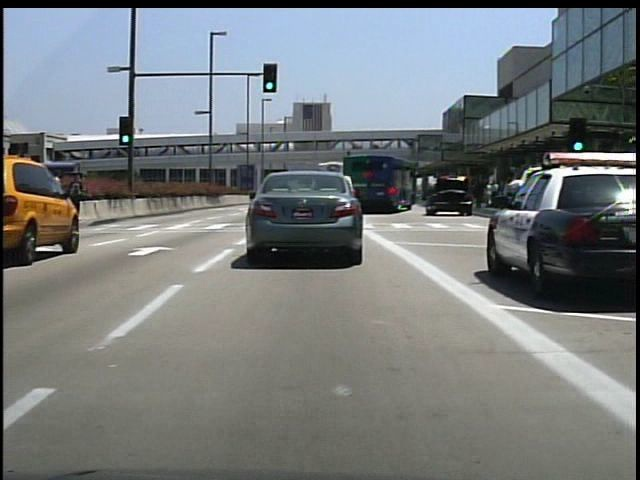person: (497, 164, 534, 260), (51, 168, 67, 222), (69, 173, 87, 211)
